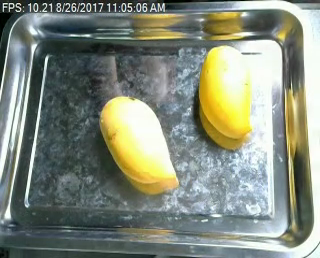Mango: (94, 94, 179, 192), (196, 41, 253, 138)
